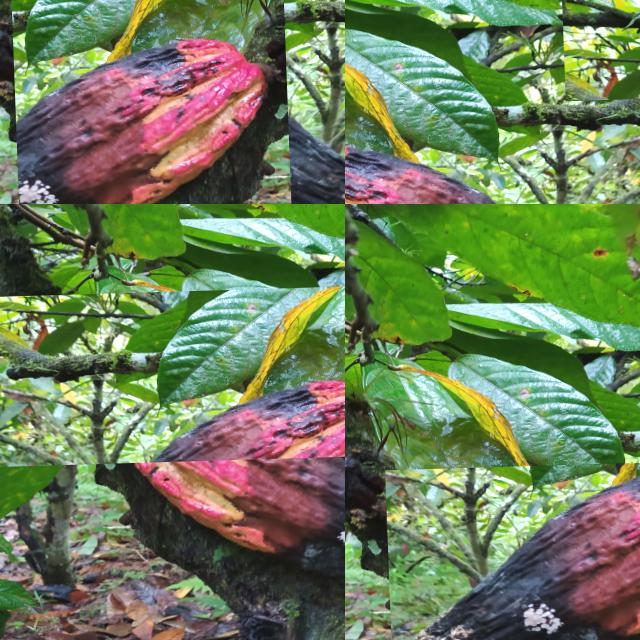Fitoftora: (383, 462, 640, 640)
Monilia: (0, 284, 345, 467), (4, 0, 290, 204), (557, 0, 640, 104)
